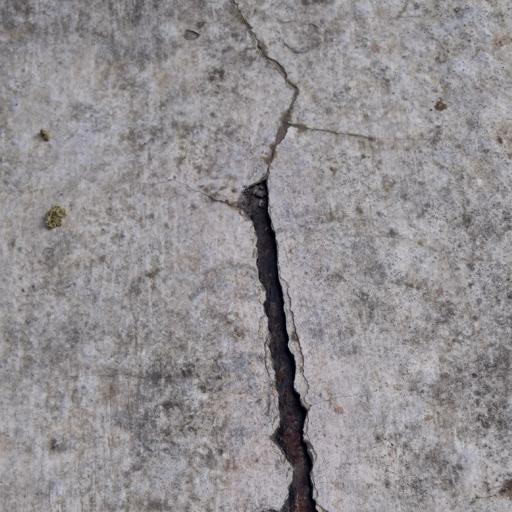major_crack: (207, 0, 334, 512)
